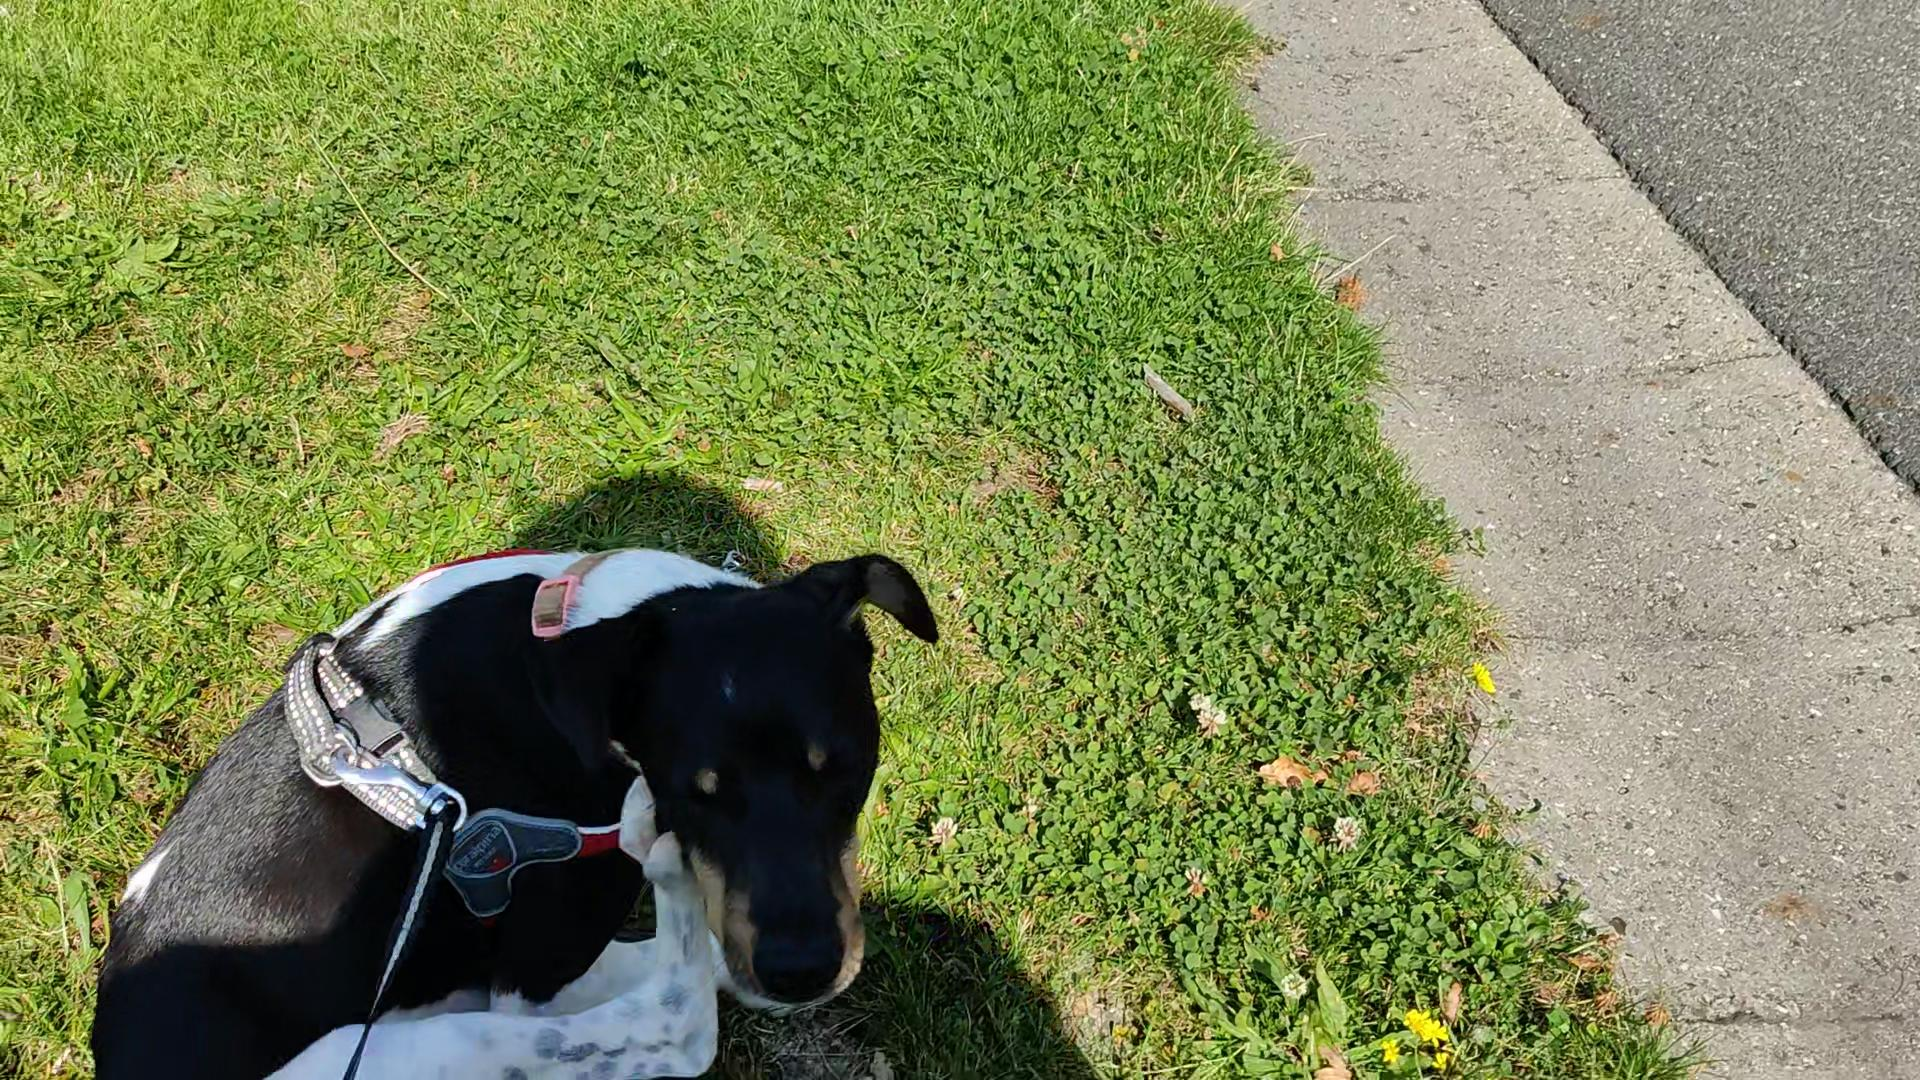Dog: (76, 524, 940, 1079)
